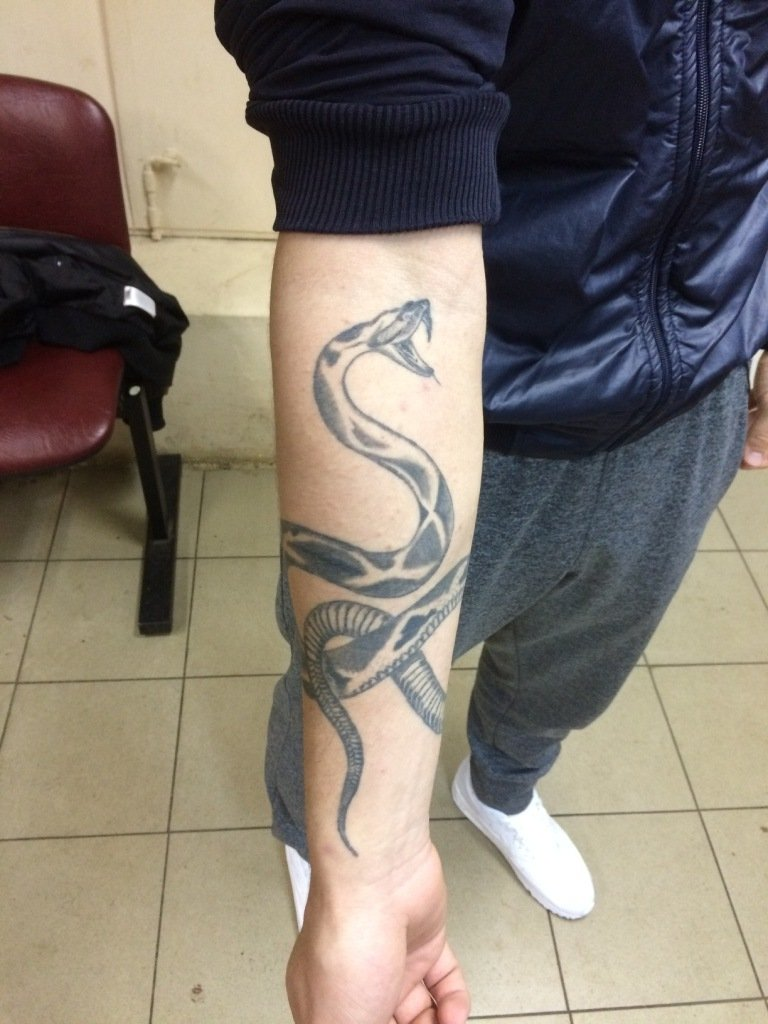tatu7_zmeya: (290, 309, 473, 818)
